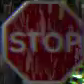Stop: (0, 1, 83, 83)
